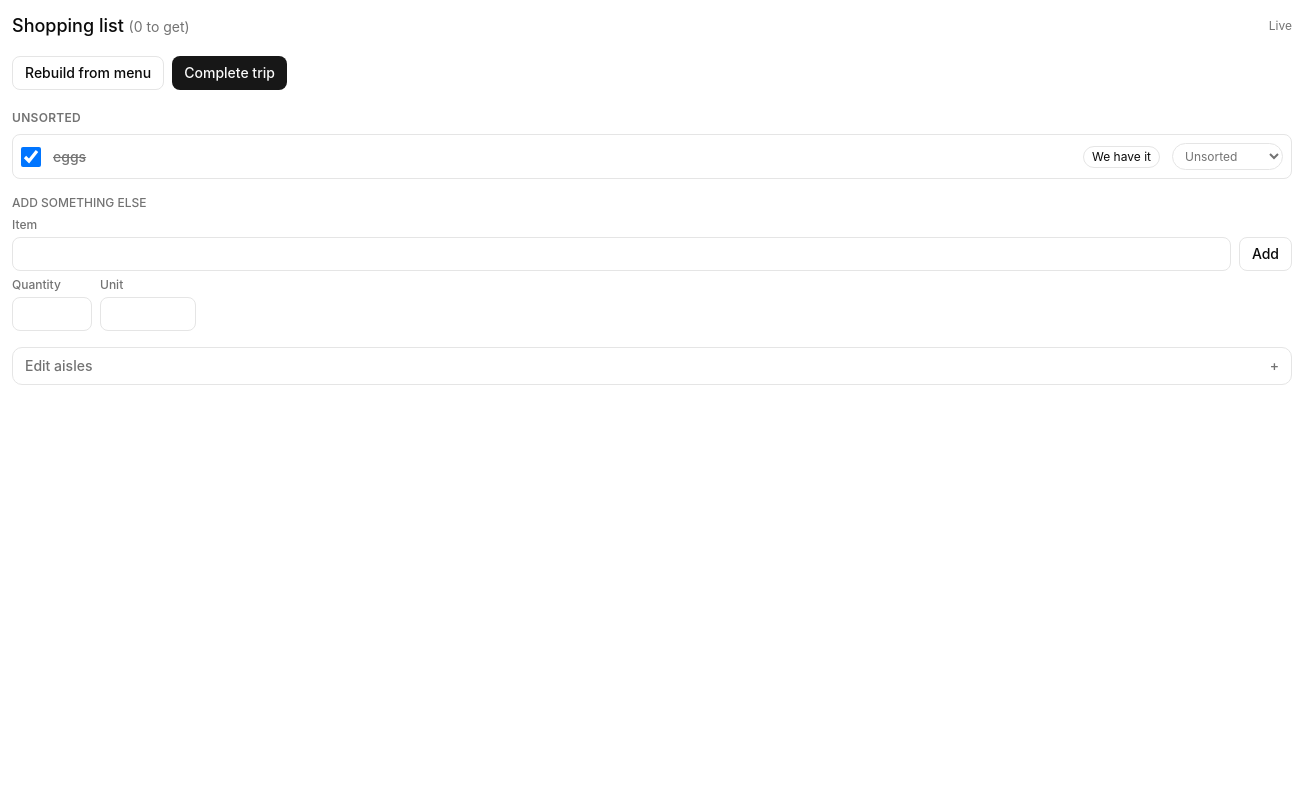
Test: GroceryList — promoting staples after a trip › keeps the prompt open with every name when no write landed
Click the button "Complete trip" at (230, 73), box [172,56,287,90]
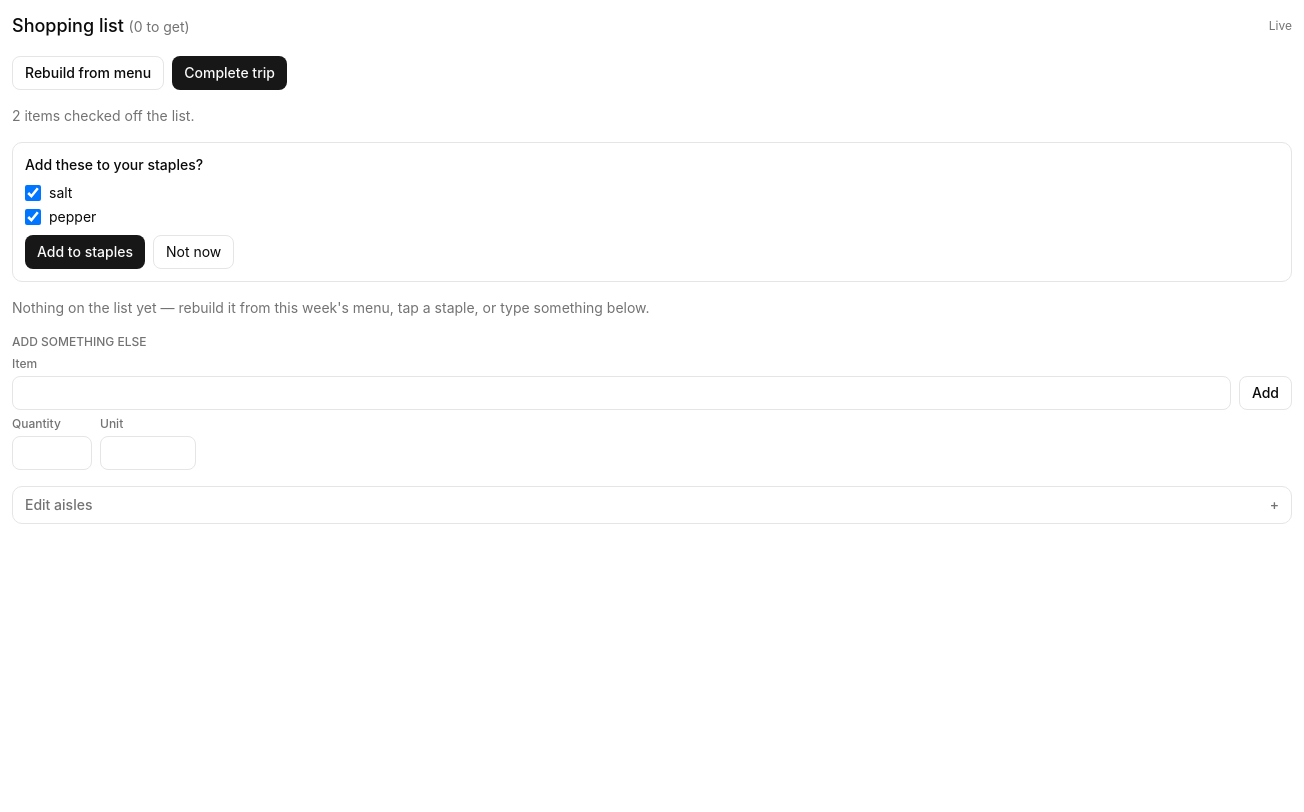
Check: the element with test id "promotion-prompt" is shown, box [12,142,1292,282]
Click the button "Add to staples" at (85, 252), box [25,235,145,269]
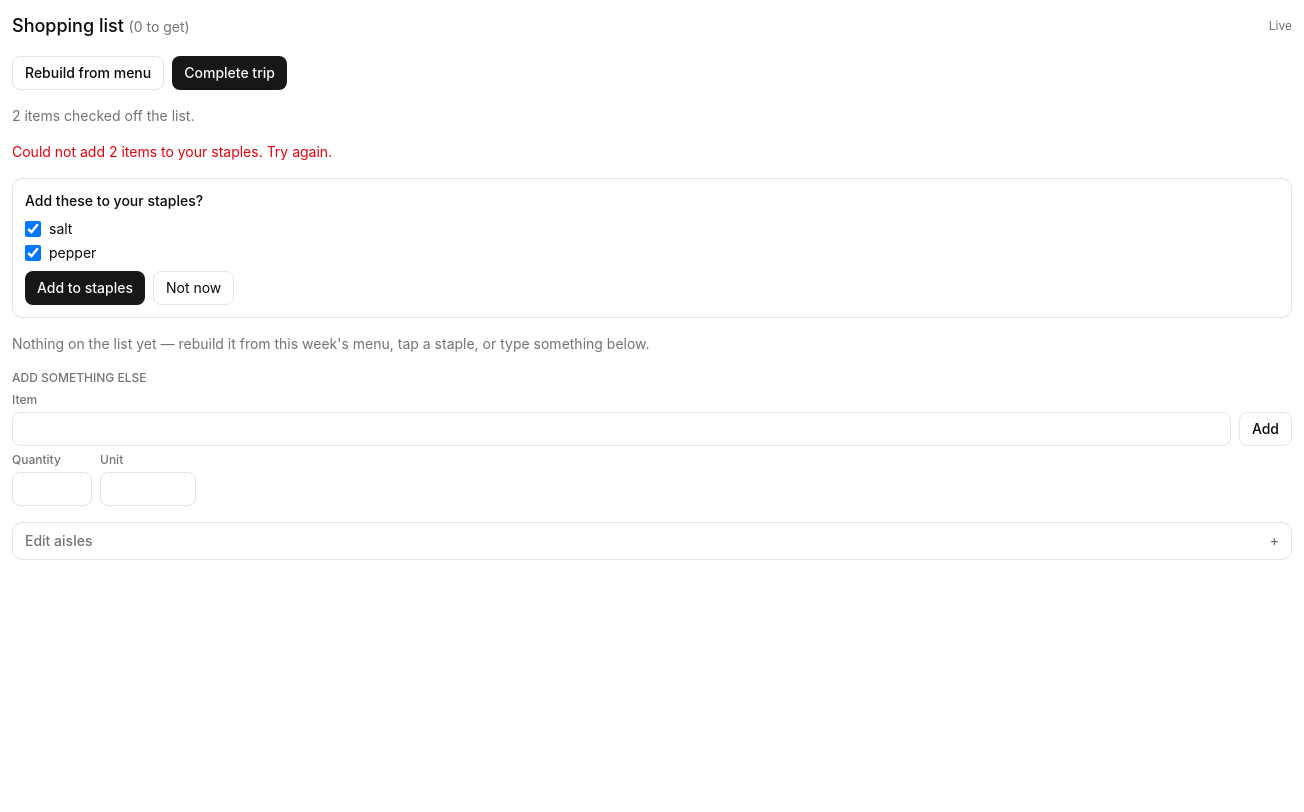
Check: the message with test id "grocery-notice" does not show "added to your staples", box [12,107,194,124]
Check: the message "Could not add 2 items to your staples. Try again." is shown, box [12,143,332,160]
